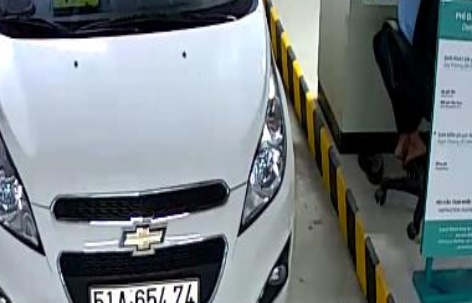plate: (86, 280, 201, 302)
